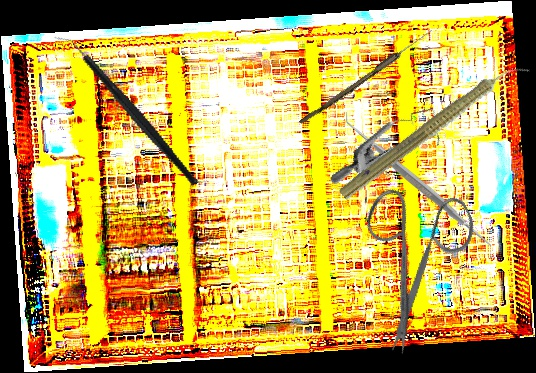Chopper: (53, 7, 199, 213)
Handpiece: (335, 50, 532, 208)
Iris Scissors: (324, 160, 515, 361)
Spatula Surgical: (343, 111, 494, 255)
Speculum: (329, 81, 453, 219)
Surgical Spoon: (299, 26, 434, 128)
